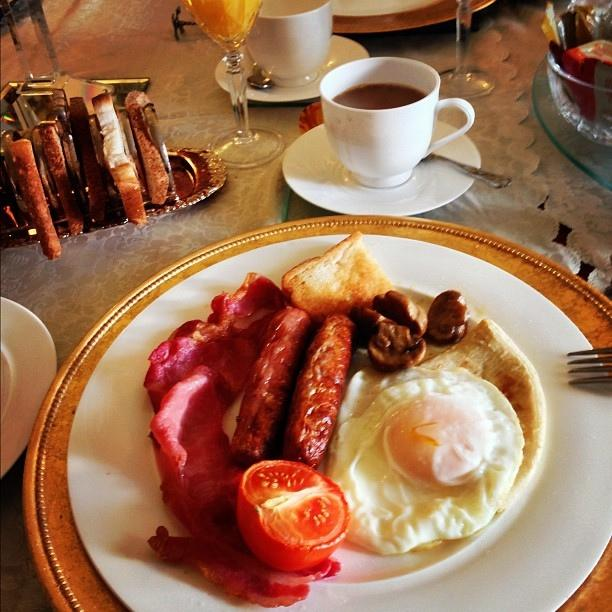mushroom: (366, 322, 426, 373), (371, 290, 428, 338), (427, 290, 472, 346), (347, 306, 398, 339)
tomato: (236, 460, 351, 572)
